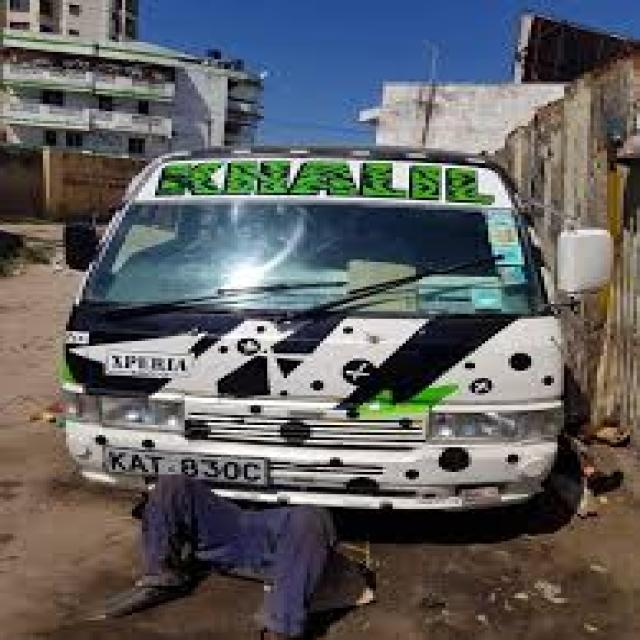matatu: (18, 79, 590, 534)
